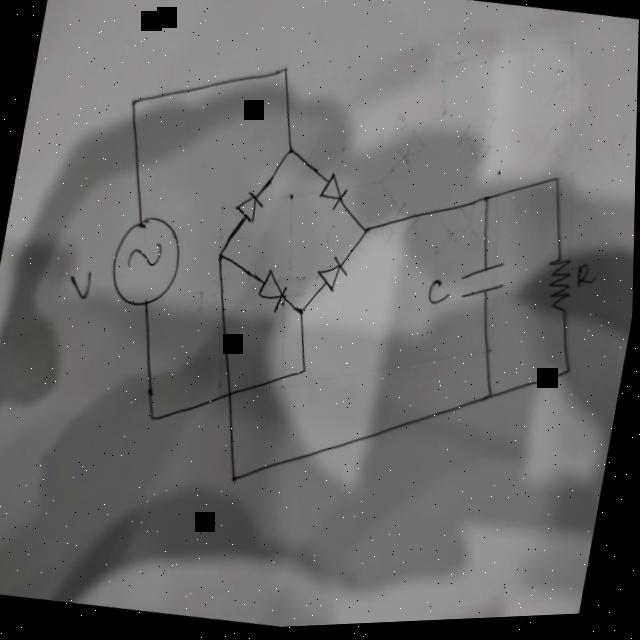capacitor: (455, 259, 510, 307)
crossover: (222, 383, 240, 405)
diode: (254, 268, 293, 317), (313, 253, 352, 297), (315, 171, 351, 216), (232, 189, 266, 228)
junction: (480, 386, 500, 410), (559, 365, 577, 384), (146, 409, 163, 426), (215, 246, 229, 265), (283, 144, 297, 162), (295, 304, 309, 321), (358, 224, 372, 241), (127, 93, 140, 111), (549, 175, 562, 193), (229, 470, 242, 487), (298, 364, 309, 380), (277, 65, 290, 77), (481, 196, 491, 207)
resistor: (539, 257, 579, 319)
source: (103, 208, 189, 315)
text: (66, 266, 95, 302), (426, 278, 453, 311), (574, 264, 599, 293)
